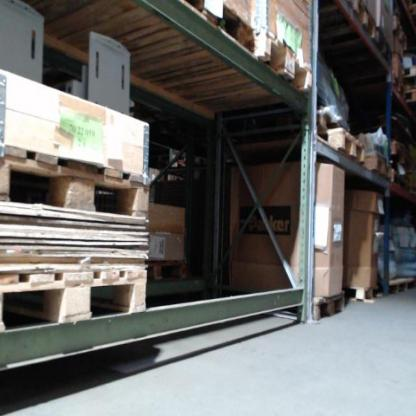pallet: (0, 142, 149, 219), (0, 269, 148, 337), (248, 28, 313, 95), (188, 0, 255, 51), (318, 126, 366, 165), (345, 0, 377, 41), (145, 256, 186, 283), (311, 290, 345, 322), (366, 149, 391, 181), (373, 26, 391, 63), (346, 284, 378, 302), (390, 168, 406, 190)
